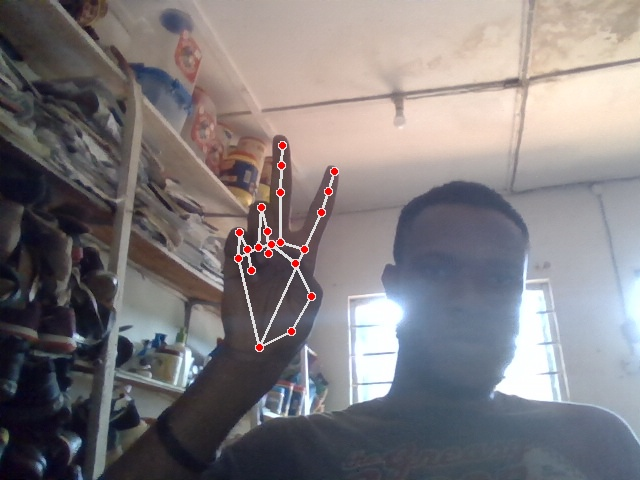peace: (224, 134, 339, 365)
